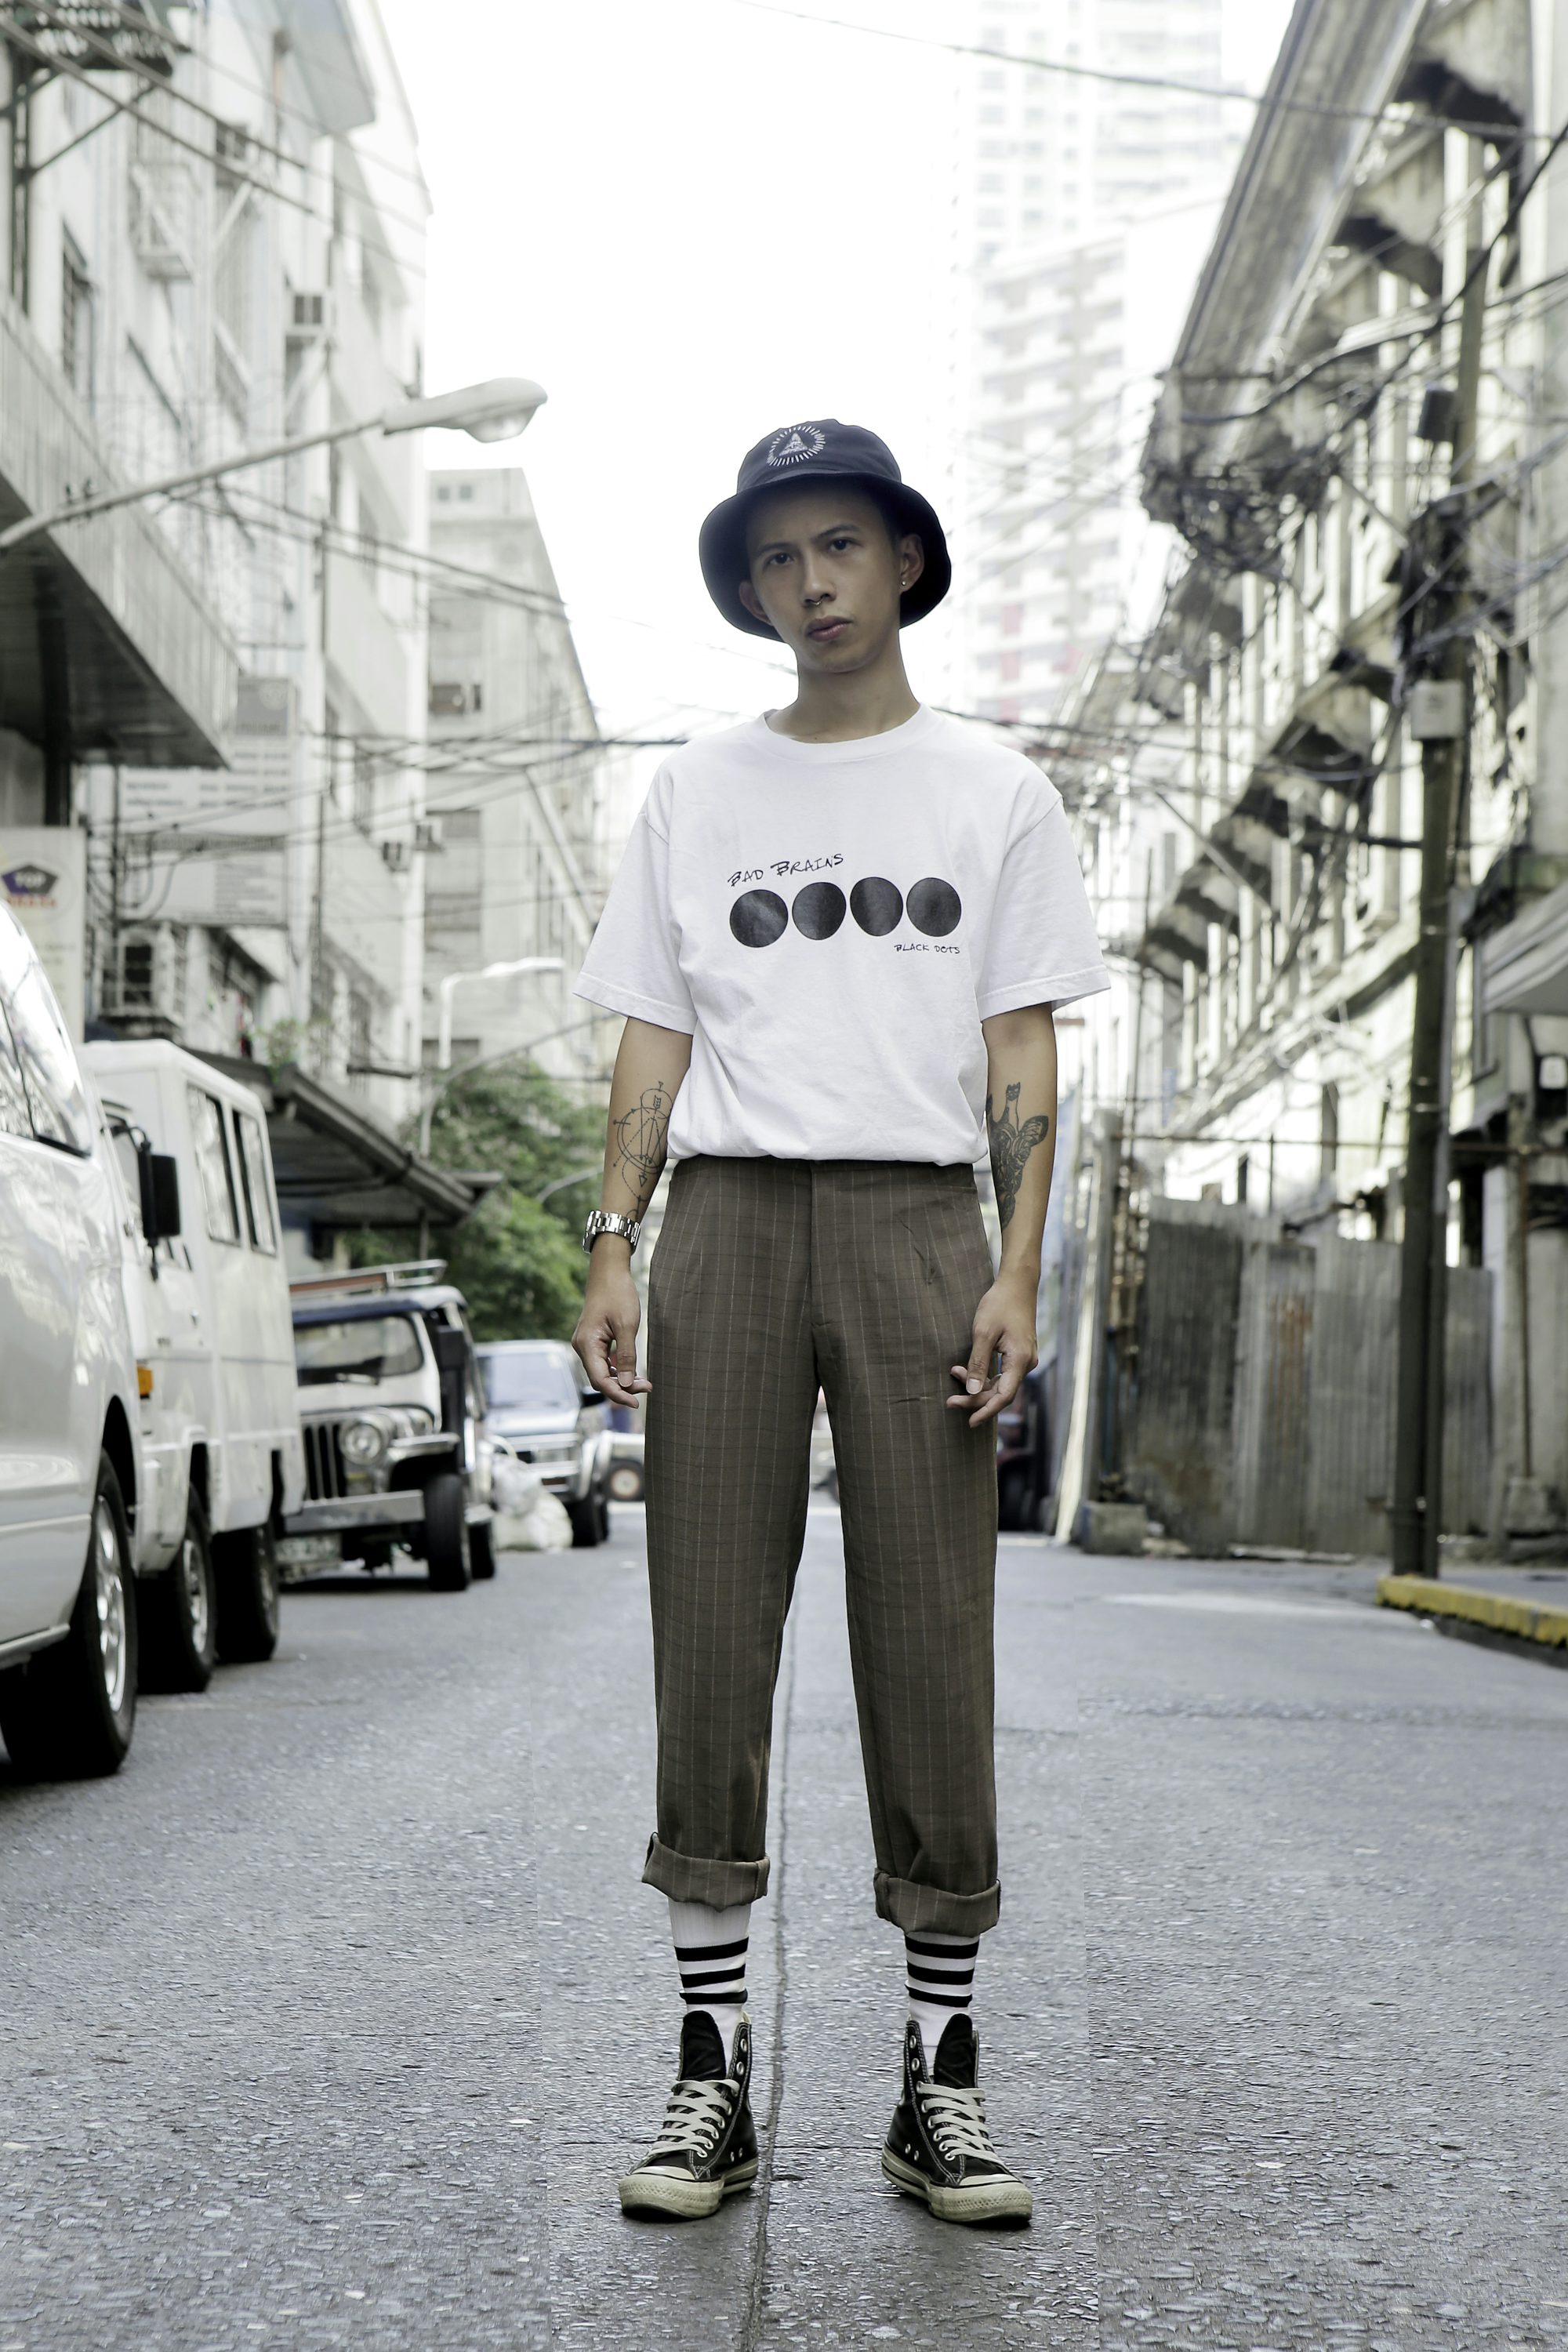person: (583, 414, 1108, 2259)
